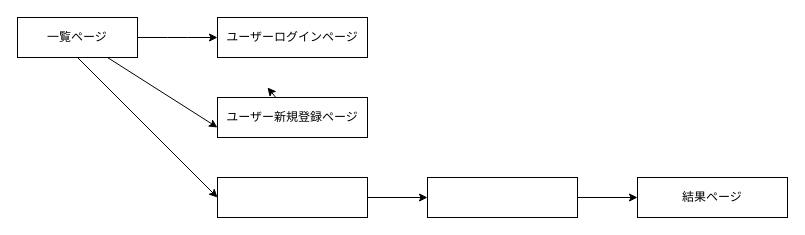
This 805x235 diagram has some shape labels left out. The shapes that lost their labels are listed below. From the top down, each one's centre as x and y in pixels, then its label:
(x=292, y=197): 投稿ページ
(x=502, y=197): 詳細ページ
